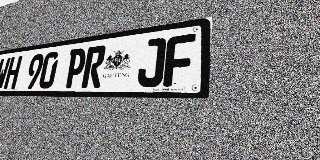0: (38, 51, 60, 89)
9: (24, 53, 45, 89)
F: (163, 33, 196, 87)
H: (3, 56, 22, 89)
J: (136, 37, 167, 87)
P: (63, 47, 88, 88)
R: (81, 45, 107, 88)
W: (0, 57, 11, 89)
